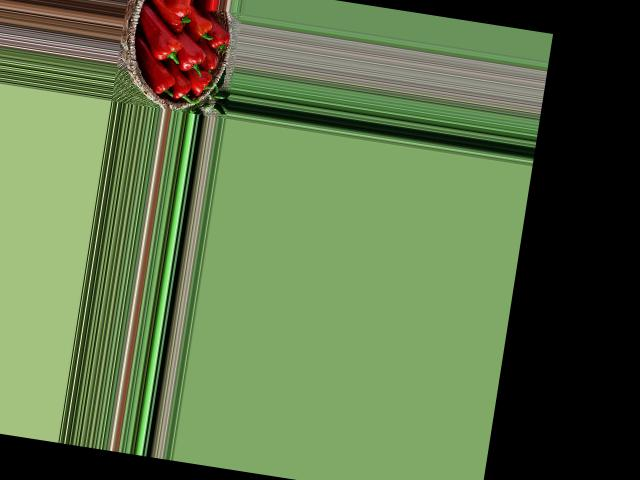bell_pepper: (168, 72, 196, 106)
